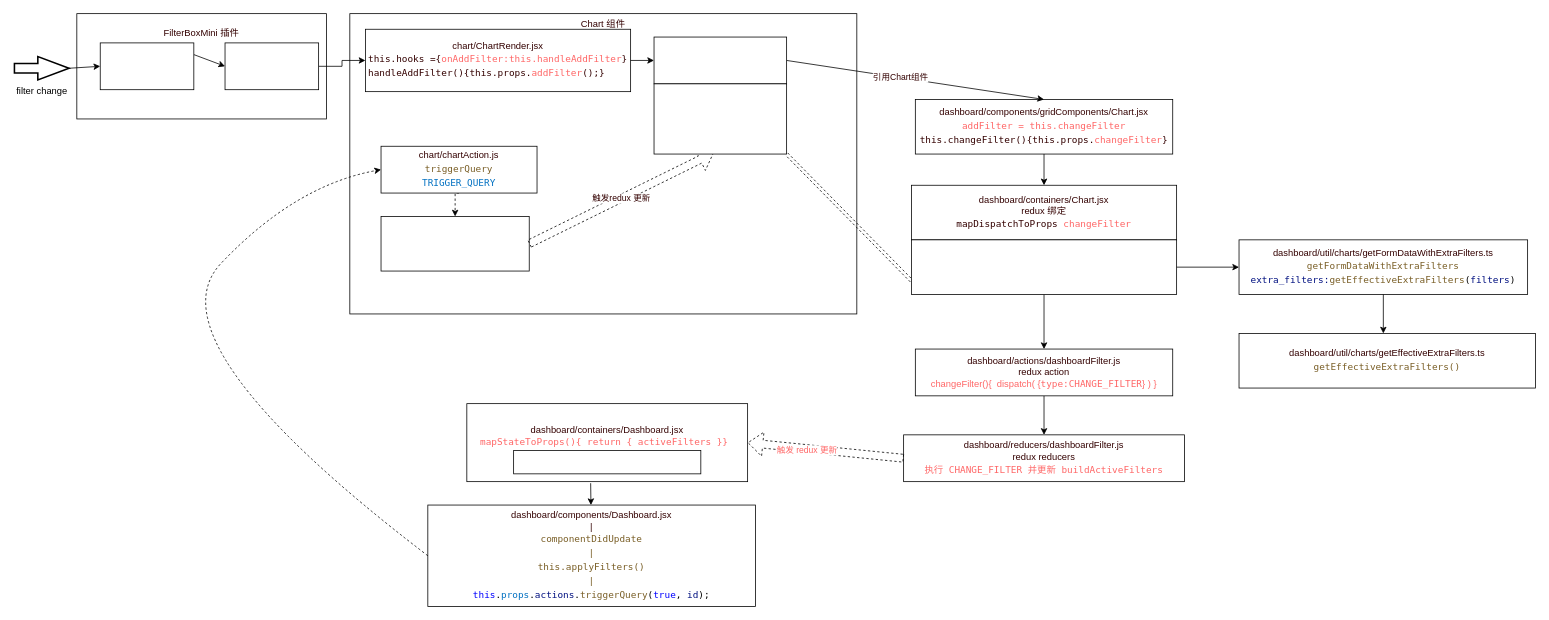
This 1549x620 diagram has some shape labels left out. The centre of each missing label's shape, as x and y in pixels:
"chart/Chart.jsx this.props. addFilter ()" goes at (x=720, y=60).
"chart/chartReducer.js TRIGGER_QUERY" goes at (x=454, y=243).
"componentDidUpdate runQuery | this.props.formData" goes at (x=720, y=118).
"FilterBox.jsx this.props.onchange" goes at (x=146, y=66).
"mapDispatchToProps triggerQuery" goes at (x=607, y=462).
"mapStateToProps formData= getFormDataWithExtraFilters()" goes at (x=1044, y=266).
"transformProps.js onChange: onAddFilter" goes at (x=271, y=66).
